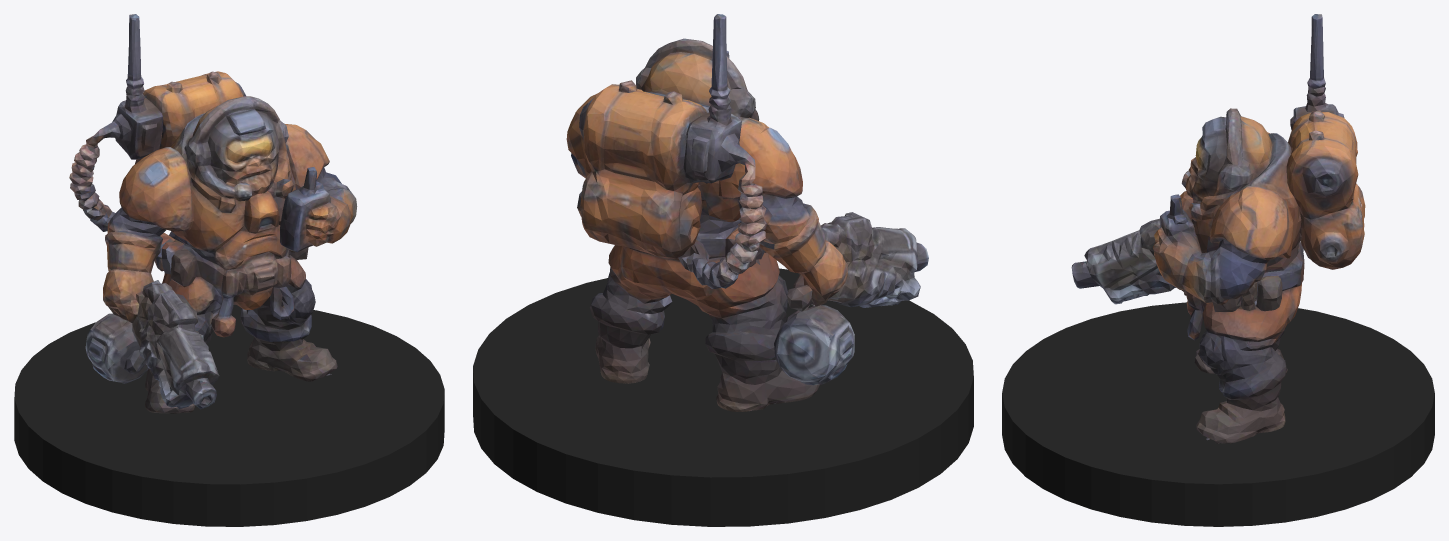
Rendered from hk-kinlynk.glb.
3 views of the same model, side by side, from view 1: azimuth 30°, elevation 25°; view 2: azimuth 150°, elevation 25°; view 3: azimuth 270°, elevation 25° (orthographic). The views are drawn at different scales.
Visible parts, largest first — view 1: figure, base; view 2: base, figure; view 3: base, figure.
Part boxes in pixels (x1,y1,x2,y2): figure: (69, 14, 357, 413); base: (14, 305, 444, 526); base: (473, 268, 973, 526); figure: (566, 14, 928, 411); base: (1002, 302, 1434, 526); figure: (1071, 14, 1365, 443).
Bounding box in the file's own units: 1.1 × 1.12 × 1.1.
2 materials, 1 textured.
